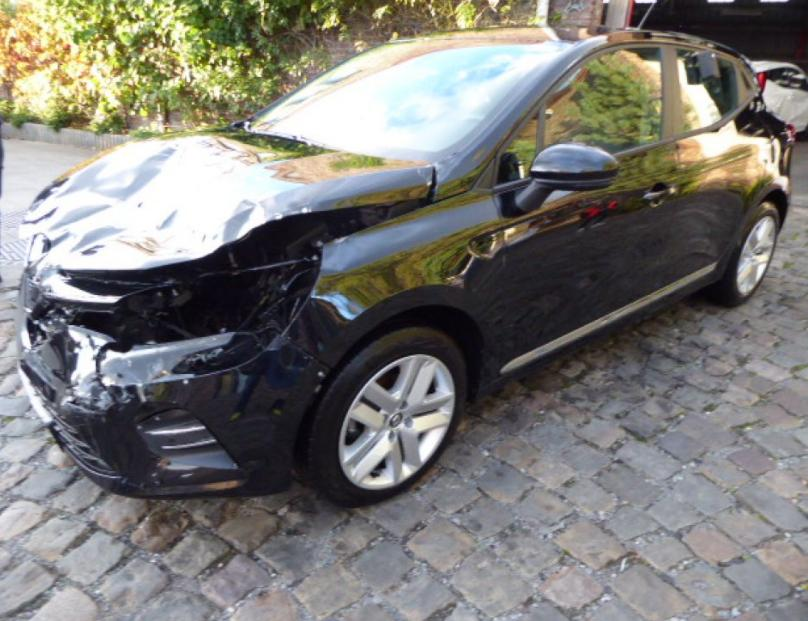Back-door: (653, 43, 775, 292)
Back-wheel: (704, 201, 782, 306)
Back-window: (676, 50, 753, 132)
Fender: (281, 189, 507, 386)
Front-bumper: (15, 261, 332, 498)
Front-door: (474, 41, 680, 368)
Front-wheel: (295, 317, 468, 505)
Front-window: (497, 47, 663, 185)
Headlight: (98, 337, 232, 388)
Hood: (20, 132, 432, 270)
Mirror: (516, 142, 618, 213)
Quarter-panel: (760, 106, 795, 221)
Rocker-panel: (475, 250, 736, 402)
Roof: (398, 26, 730, 48)
Tail-light: (779, 124, 797, 147)
Windshield: (243, 38, 576, 161)
